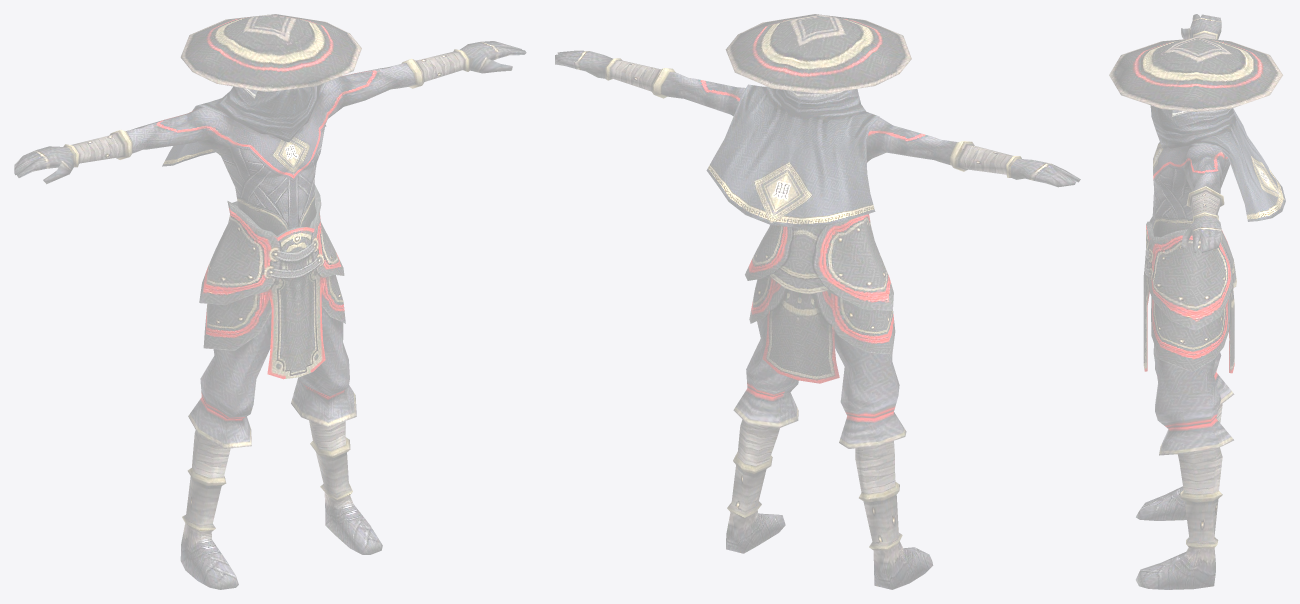
The model's file is thief_02.glb.
3 views of the same model, side by side, from view 1: azimuth 30°, elevation 25°; view 2: azimuth 150°, elevation 25°; view 3: azimuth 270°, elevation 25° (orthographic). The views are drawn at different scales.
Parts seen in each view (by area): view 1: thief_02_part2, thief_02_part1; view 2: thief_02_part2, thief_02_part1; view 3: thief_02_part2, thief_02_part1.
Part boxes in pixels (bbox=[...]): thief_02_part2: bbox=[14, 49, 458, 589]; thief_02_part1: bbox=[162, 14, 526, 217]; thief_02_part2: bbox=[605, 61, 1080, 589]; thief_02_part1: bbox=[555, 14, 912, 228]; thief_02_part2: bbox=[1135, 14, 1236, 589]; thief_02_part1: bbox=[1109, 37, 1285, 253].
Size of the model in its own units: 1.83 by 1.81 by 0.5757.
1 material, 1 textured.
